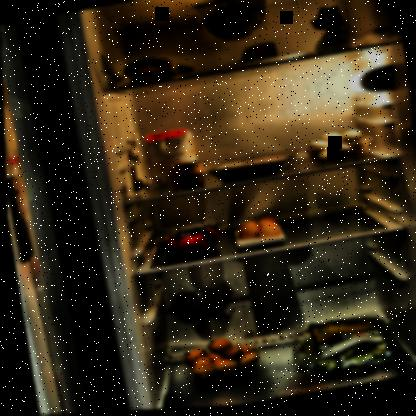banana: (119, 49, 201, 92)
cheese: (237, 42, 281, 66)
corn: (165, 161, 209, 196)
eggs: (234, 216, 284, 247)
mushrooms: (301, 131, 368, 170)
potato: (174, 331, 259, 384)
spinach: (291, 310, 410, 391)
tomato: (155, 223, 222, 263)
